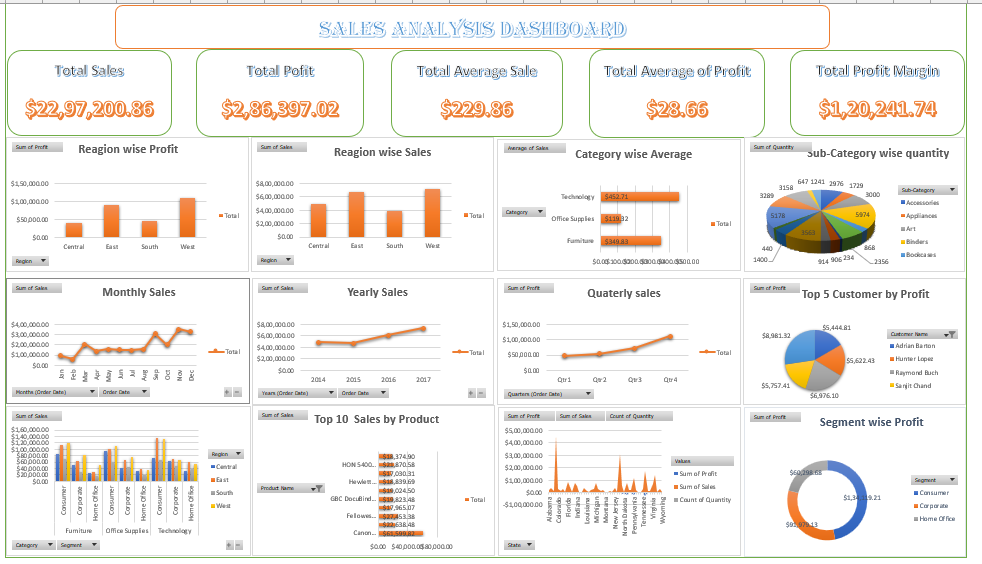

The dashboard page shown, as its layout file describes it:
{"tool":"powerbi","page":{"name":"Page 1","canvas":[1920,1080],"ordinal":0},"visuals":[{"type":"textbox","box":[0,0,1920.7,76.3],"z":0},{"type":"cardVisual","title":"Total Profit","fields":{"Data":["Sum(Sales_raw dataset.Profit)"]},"box":[396.7,76.7,320,170],"z":1000},{"type":"cardVisual","title":"Total Sales","fields":{"Data":["Sum(Sales_raw dataset.Sales)"]},"box":[0,76.7,310,170],"z":2000},{"type":"cardVisual","title":"Profit Margin","fields":{"Data":["Sum(Sales_raw dataset.Profit Margin)"]},"box":[1600,76.7,320,170],"z":3000},{"type":"cardVisual","title":"Total Quantity","fields":{"Data":["Sum(Sales_raw dataset.Quantity)"]},"box":[1206.7,76.7,320,170],"z":4000},{"type":"cardVisual","title":"Average Sales","fields":{"Data":["Avg(Sales_raw dataset.Sales)"]},"box":[800,76.7,320,170],"z":5000},{"type":"columnChart","fields":{"Category":["Sales_raw dataset.Region"],"Y":["Sum(Sales_raw dataset.Sales)"]},"box":[0,302.5,467.5,375],"z":6000},{"type":"clusteredBarChart","fields":{"Category":["Sales_raw dataset.Region"],"Y":["Sum(Sales_raw dataset.Profit)"]},"box":[502.5,302.5,457.5,375],"z":7000},{"type":"donutChart","fields":{"Category":["Sales_raw dataset.Sub-Category"],"Y":["Sum(Sales_raw dataset.Quantity)"]},"box":[1005,300,460,377.5],"z":8000},{"type":"lineChart","fields":{"Category":["Sales_raw dataset.Order Date.Variation.Date Hierarchy.Year"],"Y":["Sum(Sales_raw dataset.Sales)"]},"box":[1505,302.5,415,375],"z":9000},{"type":"pieChart","fields":{"Category":["Sales_raw dataset.Sub-Category"],"Series":["Sales_raw dataset.Category"],"Y":["Count(Sales_raw dataset.Quantity)"]},"box":[0,688,468,375],"z":10000},{"type":"clusteredColumnChart","fields":{"Category":["Sales_raw dataset.Region"],"Series":["Sales_raw dataset.Sub-Category"],"Y":["Sum(Sales_raw dataset.Sales)"]},"box":[503,688,458,375],"z":11000},{"type":"pieChart","fields":{"Category":["Sales_raw dataset.State"],"Series":["Sales_raw dataset.Region"],"Y":["Max(Sales_raw dataset.Profit)"]},"box":[1005,688,460,375],"z":12000},{"type":"slicer","fields":{"Values":["Sales_raw dataset.Region","Sales_raw dataset.Segment","Sales_raw dataset.Category"]},"box":[1505,688,415,375],"z":13000}]}

Visuals, with their boxes in screenshot pixels (x1, y1, x2, y2), scaled from the page's 1920x1080 canvas onto the 982x564 screenshot:
textbox: bbox=[0, 0, 981, 40]
"Total Profit" cardVisual: bbox=[203, 40, 367, 129]
"Total Sales" cardVisual: bbox=[0, 40, 159, 129]
"Profit Margin" cardVisual: bbox=[818, 40, 981, 129]
"Total Quantity" cardVisual: bbox=[617, 40, 781, 129]
"Average Sales" cardVisual: bbox=[409, 40, 573, 129]
columnChart - Sales_raw dataset.Region x Sum(Sales_raw dataset.Sales): bbox=[0, 158, 239, 354]
clusteredBarChart - Sales_raw dataset.Region x Sum(Sales_raw dataset.Profit): bbox=[257, 158, 491, 354]
donutChart - Sales_raw dataset.Sub-Category x Sum(Sales_raw dataset.Quantity): bbox=[514, 157, 749, 354]
lineChart - Sales_raw dataset.Order Date.Variation.Date Hierarchy.Year x Sum(Sales_raw dataset.Sales): bbox=[770, 158, 981, 354]
pieChart - Sales_raw dataset.Sub-Category x Sales_raw dataset.Category: bbox=[0, 359, 239, 555]
clusteredColumnChart - Sales_raw dataset.Region x Sales_raw dataset.Sub-Category: bbox=[257, 359, 492, 555]
pieChart - Sales_raw dataset.State x Sales_raw dataset.Region: bbox=[514, 359, 749, 555]
slicer - Sales_raw dataset.Region x Sales_raw dataset.Segment: bbox=[770, 359, 981, 555]
